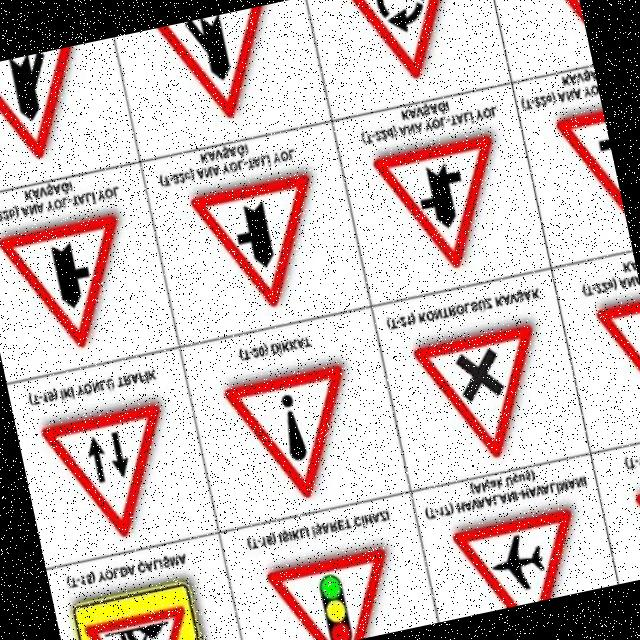light_traffic: (258, 541, 405, 640)
